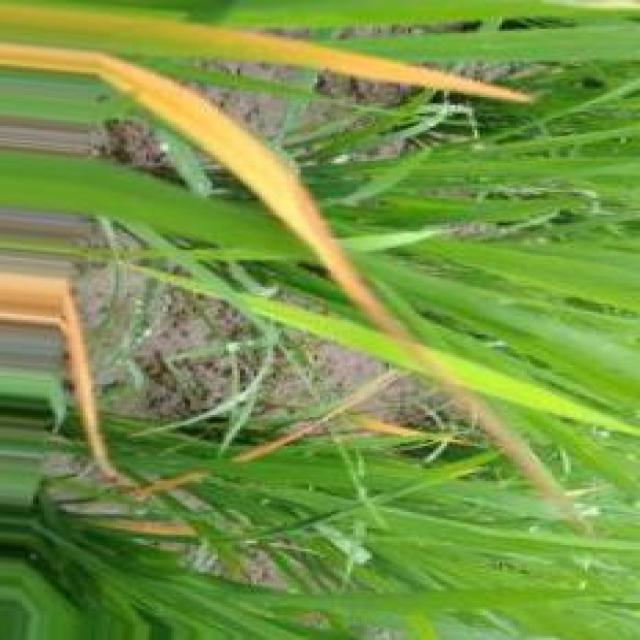Rice Tungro: (0, 46, 406, 337), (0, 9, 528, 102), (60, 290, 119, 481)
